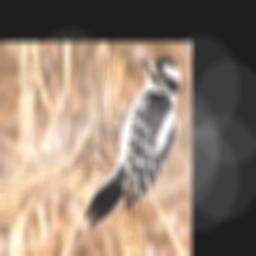Woodpecker: (82, 56, 182, 233)
